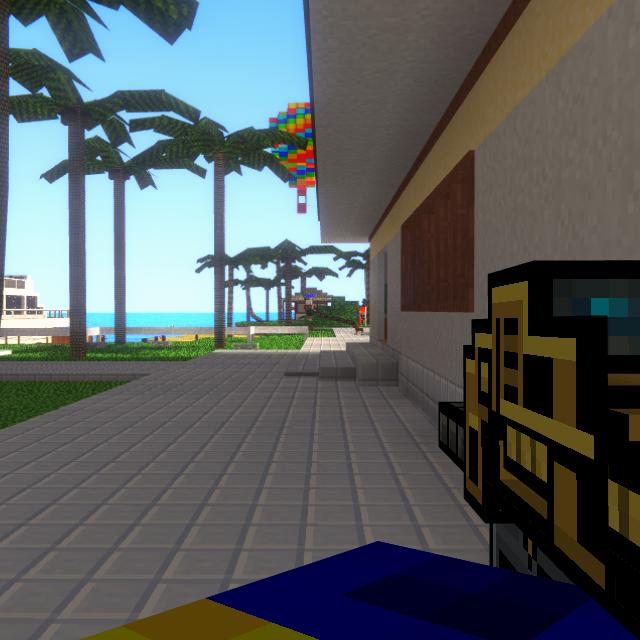Enemy: (359, 311, 366, 324)
